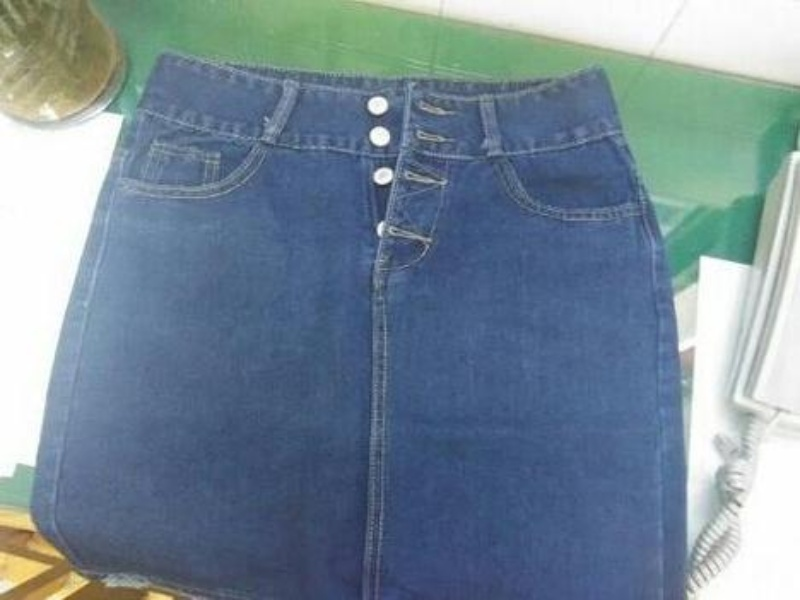skirt: (27, 53, 689, 598)
